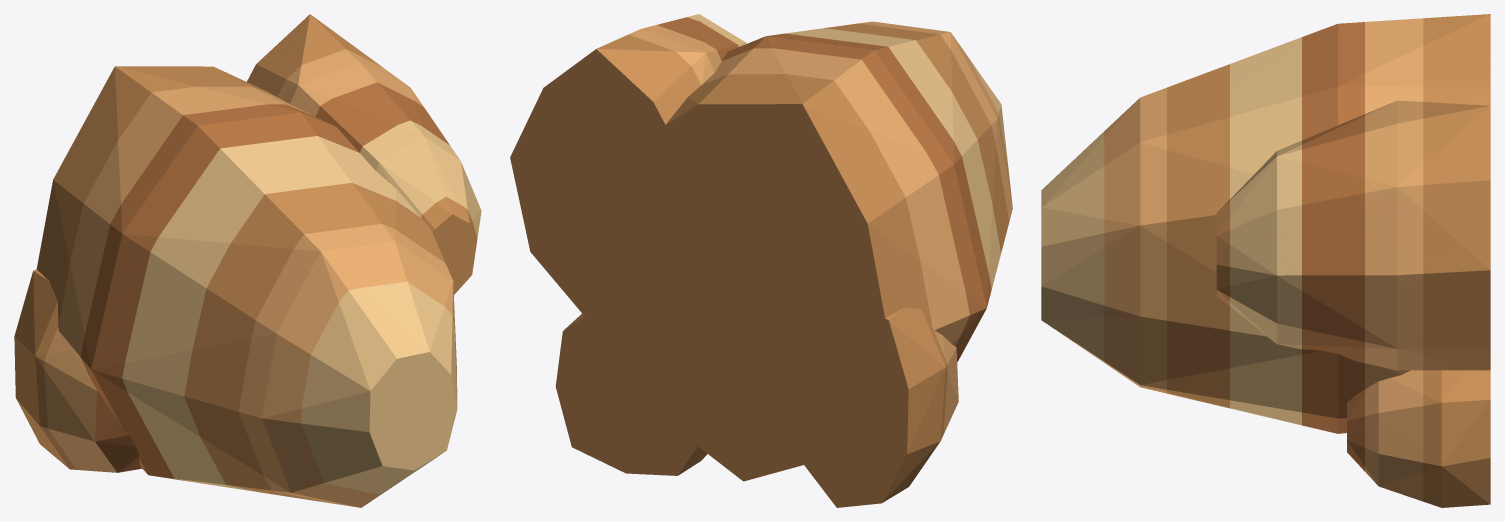
Rendered from k-mesa-a.glb.
3 renders of one model, left to right at view 1: azimuth 30°, elevation 25°; view 2: azimuth 150°, elevation 25°; view 3: azimuth 270°, elevation 25°, orthographic. The views are drawn at different scales.
Visible parts, largest first — view 1: Solid.001, Chunk_05.001, Chunk_01.001, Chunk_00.001, Chunk_10.001, Chunk_06.001, Chunk_02.001, Chunk_03.001, Chunk_13.001, Chunk_18.001, Chunk_09.001, Chunk_14.001 (+1 smaller); view 2: Solid.001, Chunk_10.001, Chunk_09.001, Chunk_08.001, Chunk_11.001, Chunk_05.001, Chunk_14.001, Chunk_18.001, Chunk_19.001, Chunk_20.001, Chunk_17.001, Chunk_13.001 (+5 smaller); view 3: Solid.001, Chunk_06.001, Chunk_11.001, Chunk_03.001, Chunk_02.001, Chunk_00.001, Chunk_10.001, Chunk_19.001, Chunk_15.001, Chunk_08.001, Chunk_04.001, Chunk_07.001.
Boxes of the visible parts, box(x1,y1,x2,y2) form: Solid.001: box(16, 14, 475, 507); Chunk_05.001: box(70, 163, 285, 434); Chunk_01.001: box(174, 295, 388, 496); Chunk_00.001: box(266, 168, 453, 396); Chunk_10.001: box(49, 66, 269, 283); Chunk_06.001: box(304, 18, 481, 280); Chunk_02.001: box(331, 302, 457, 507); Chunk_03.001: box(267, 97, 453, 292); Chunk_13.001: box(36, 369, 141, 472); Chunk_18.001: box(14, 269, 75, 431); Chunk_09.001: box(59, 330, 191, 480); Chunk_14.001: box(247, 25, 330, 123); Solid.001: box(510, 23, 1005, 507); Chunk_10.001: box(684, 40, 935, 313); Chunk_09.001: box(678, 279, 975, 481); Chunk_08.001: box(594, 75, 742, 430); Chunk_11.001: box(510, 48, 610, 316); Chunk_05.001: box(877, 40, 1000, 327); Chunk_14.001: box(607, 45, 725, 312); Chunk_18.001: box(851, 307, 951, 494); Chunk_19.001: box(555, 314, 631, 473); Chunk_20.001: box(631, 314, 705, 475); Chunk_17.001: box(790, 315, 851, 507); Chunk_13.001: box(841, 345, 958, 507); Solid.001: box(1041, 25, 1490, 501); Chunk_06.001: box(1216, 106, 1481, 342); Chunk_11.001: box(1322, 105, 1490, 370); Chunk_03.001: box(1130, 65, 1412, 350); Chunk_02.001: box(1041, 229, 1271, 401); Chunk_00.001: box(1041, 65, 1266, 235); Chunk_10.001: box(1267, 14, 1490, 105); Chunk_19.001: box(1379, 370, 1490, 507); Chunk_15.001: box(1347, 370, 1480, 486); Chunk_08.001: box(1257, 99, 1484, 415); Chunk_04.001: box(1171, 381, 1346, 433); Chunk_07.001: box(1216, 294, 1397, 370).
Size of the model in its own units: 0.01 by 0.01 by 0.01.
Materials: 1 (1 with a texture image).
